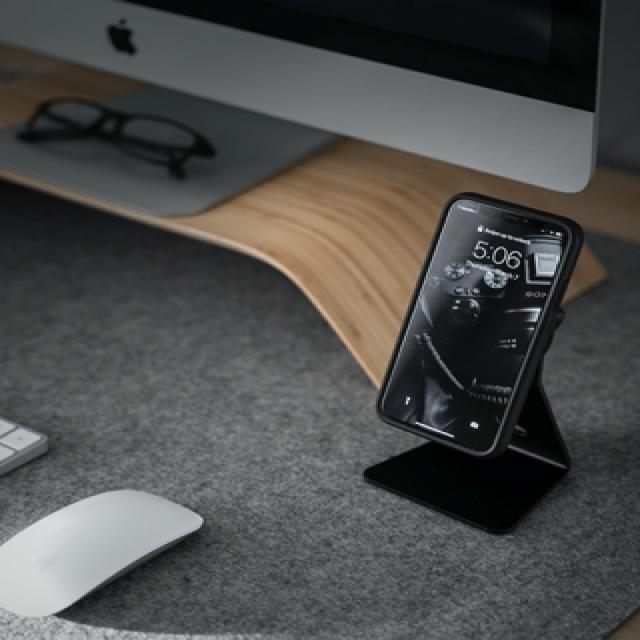cellphone: (374, 190, 584, 460)
